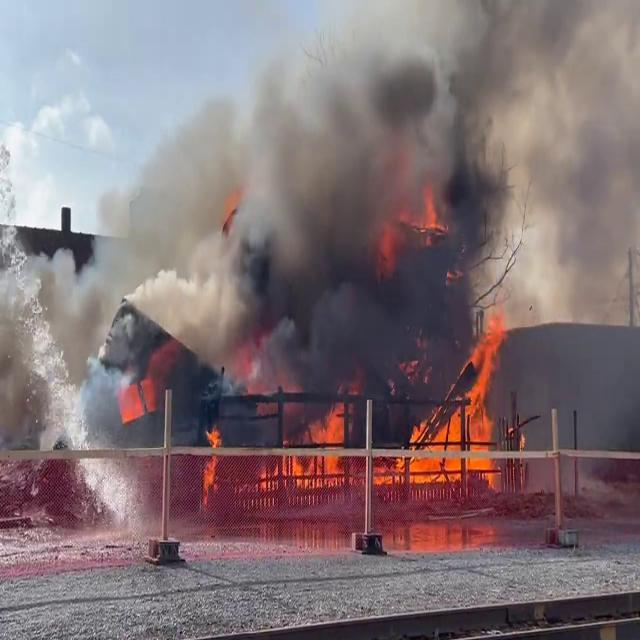Fire: (398, 350, 502, 488), (282, 402, 352, 486), (202, 422, 225, 495)
Smoke: (54, 0, 639, 398)
